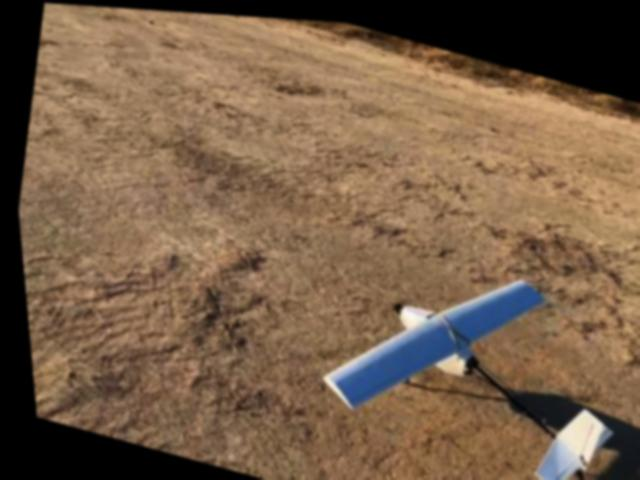uav: (294, 220, 639, 480)
